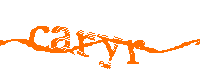a: (50, 25, 73, 53)
c: (29, 23, 51, 52)
r: (75, 28, 96, 59), (126, 36, 146, 66)
y: (98, 34, 122, 70)
